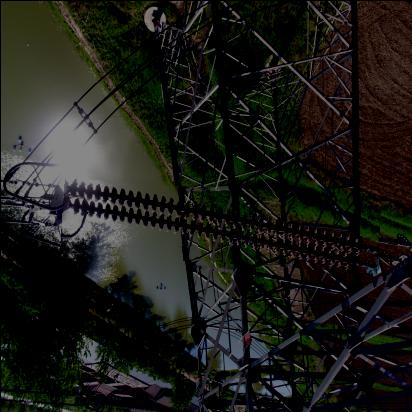insulator: (61, 184, 381, 269)
